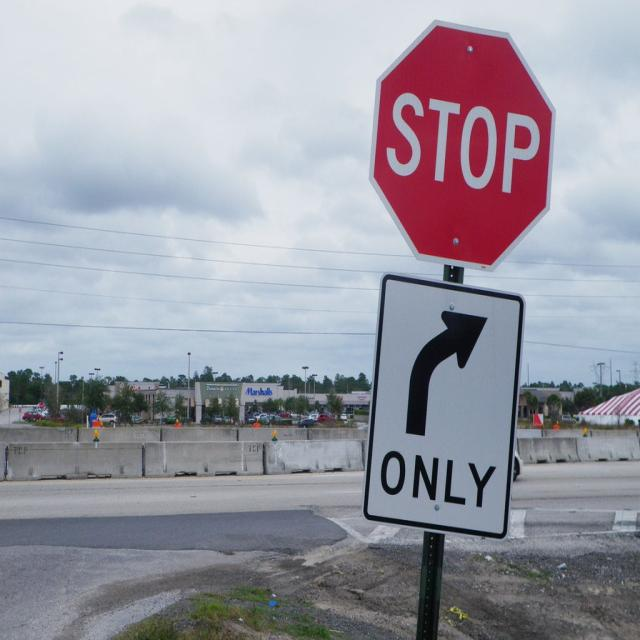Stop-sign: (368, 18, 556, 273)
